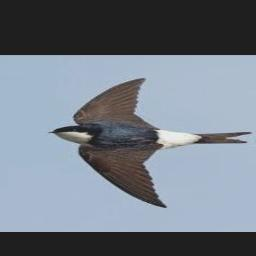Swallow: (47, 77, 253, 207)
